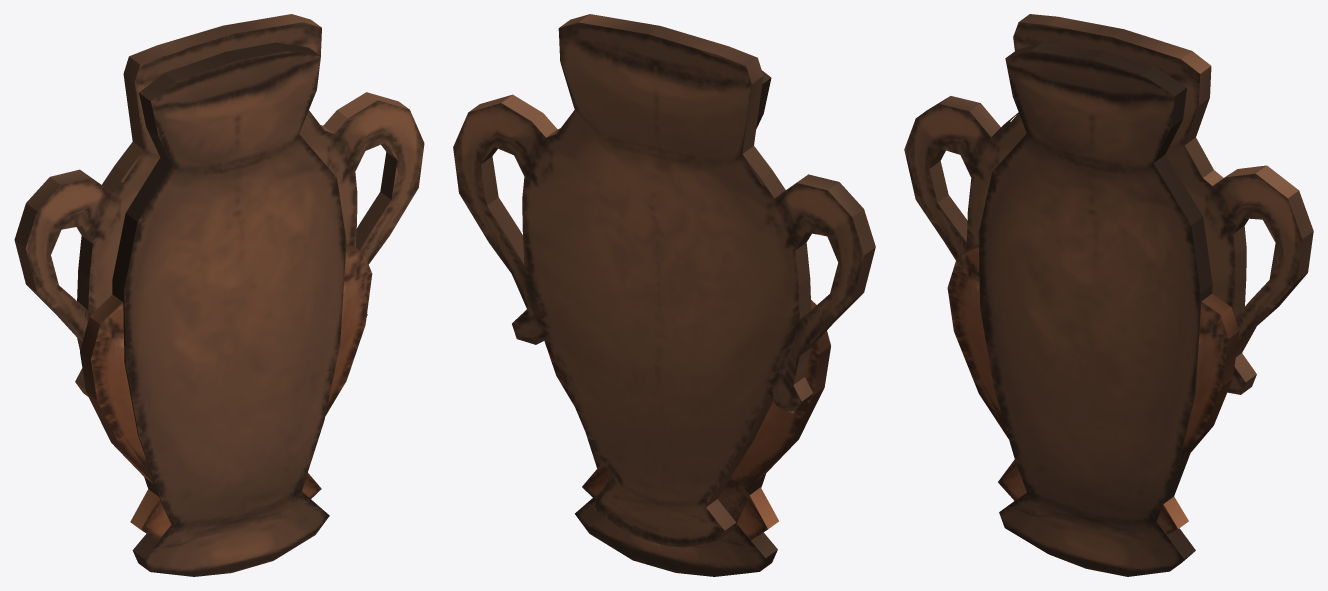
Rendered from Clay.fbx.
3 views of the same model, side by side, from view 1: azimuth 30°, elevation 25°; view 2: azimuth 150°, elevation 25°; view 3: azimuth 330°, elevation 25° (orthographic). The views are drawn at different scales.
Parts seen in each view (by area): view 1: Clay_vase_02, Clay_vase_03, Clay_vase_01; view 2: Clay_vase_03, Clay_vase_02, Clay_vase_01; view 3: Clay_vase_02, Clay_vase_03, Clay_vase_01.
Part boxes in pixels (<box>): Clay_vase_02: <box>112,42,346,576</box>; Clay_vase_03: <box>14,14,424,396</box>; Clay_vase_01: <box>80,244,372,540</box>; Clay_vase_03: <box>453,14,875,547</box>; Clay_vase_02: <box>575,70,777,576</box>; Clay_vase_01: <box>544,300,830,548</box>; Clay_vase_02: <box>978,42,1212,576</box>; Clay_vase_03: <box>904,14,1313,394</box>; Clay_vase_01: <box>947,244,1239,533</box>.
Bounding box in the file's own units: 2.25 × 0.2265 × 2.84.
